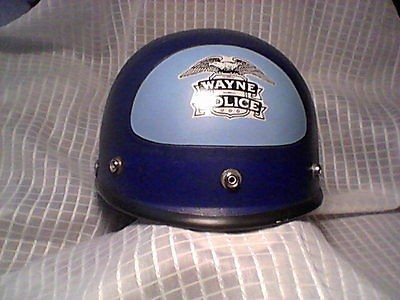with_helmet: (96, 28, 325, 222)
